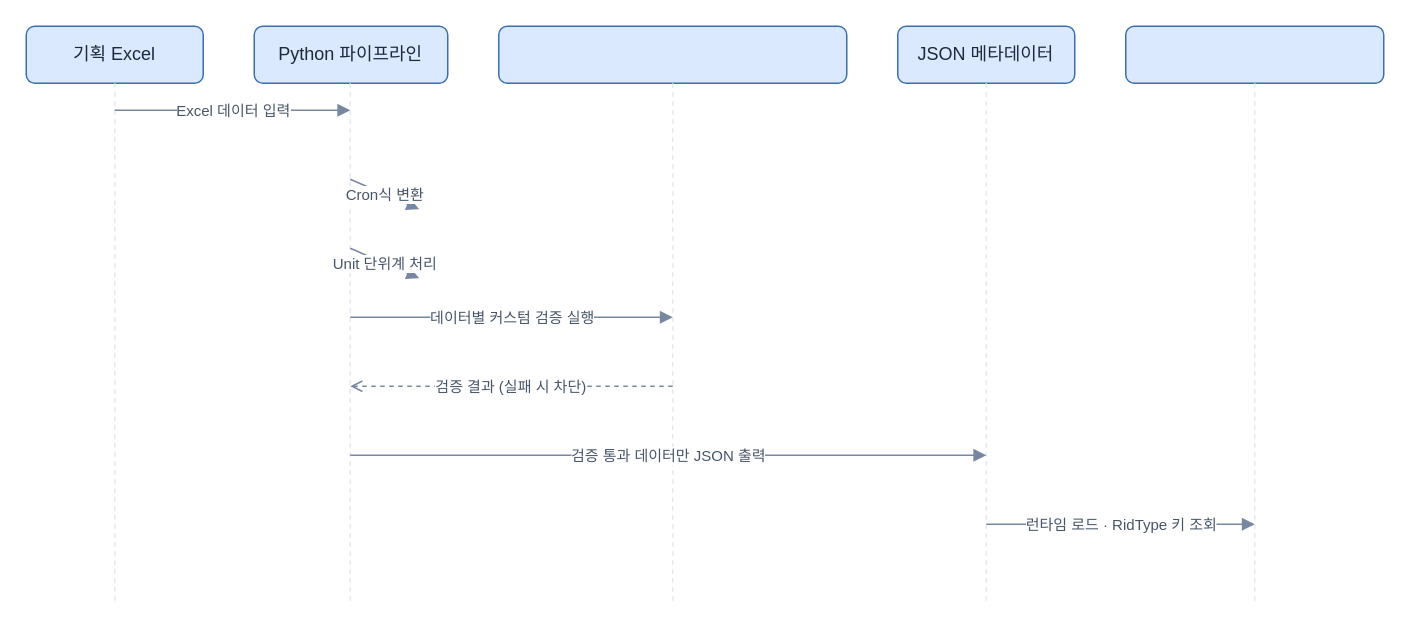
Image size: 1410x633. Some labels were removed from this diagram. Each missing label, with the box of its shape:
Custom Validation Script: (497, 25, 847, 83)
MetaDataSubsystem: (1124, 25, 1384, 83)
